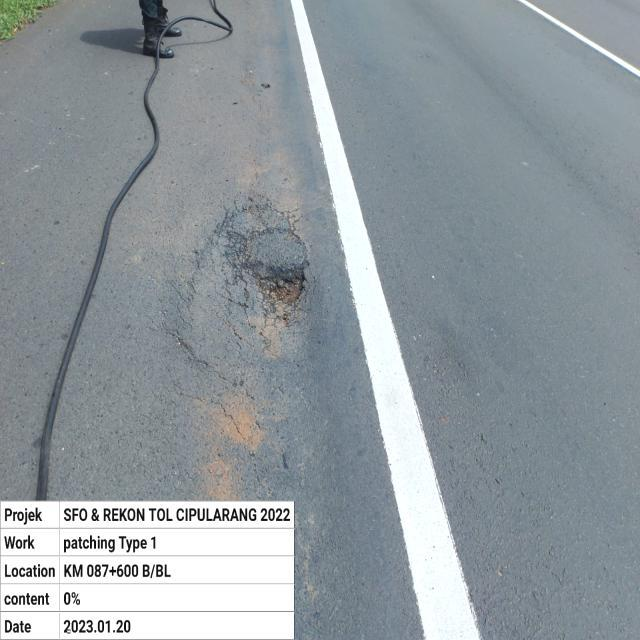Buraco: (236, 257, 314, 308)
